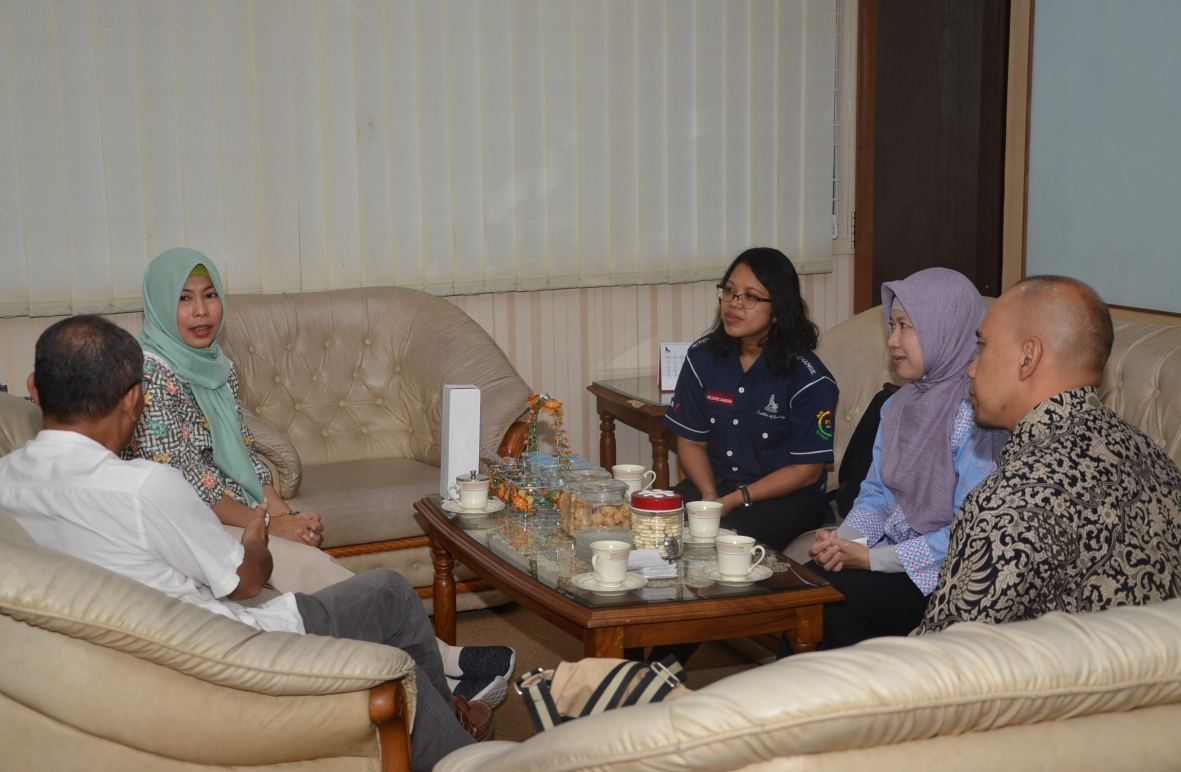gelas: (712, 530, 770, 587), (582, 543, 634, 598), (444, 474, 502, 523)
meja: (414, 483, 840, 679)
sova: (4, 291, 538, 538), (457, 596, 1180, 772), (1, 543, 425, 772)
